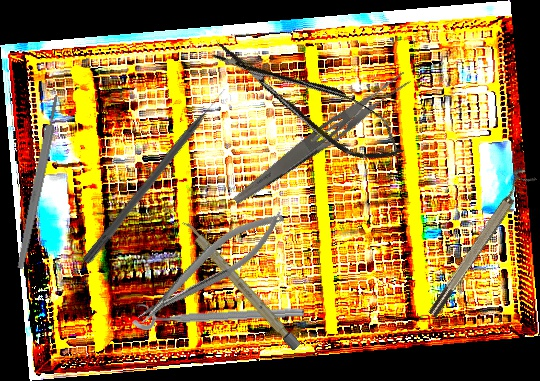Dressing Forceps: (230, 66, 414, 214)
Fixation Ring: (420, 165, 537, 320), (131, 293, 305, 331)
Micro Scissor: (203, 21, 413, 179)
Needle Holder: (126, 201, 294, 332)
Pusher: (81, 85, 231, 267)
Scalpel Handle: (179, 218, 302, 351), (15, 94, 62, 270)
